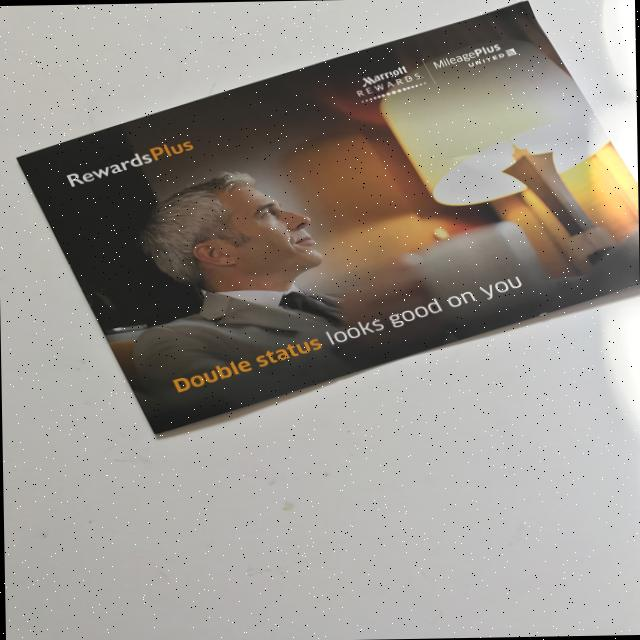paper: (15, 0, 640, 439)
